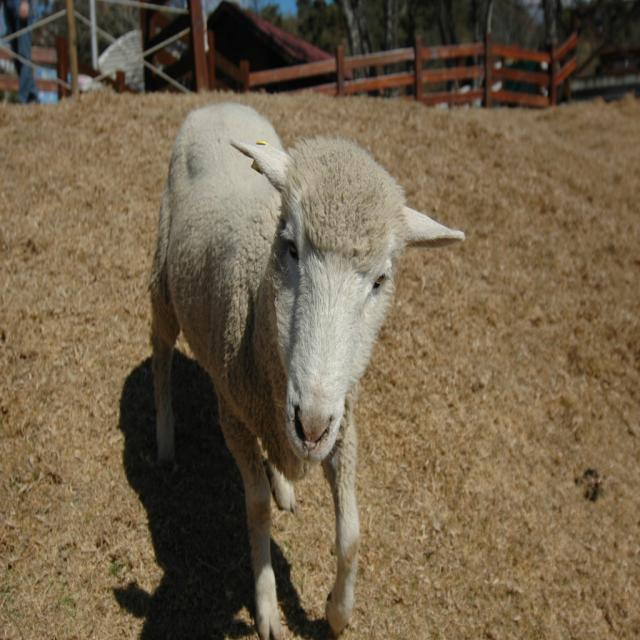Sheep: (107, 109, 478, 640)
